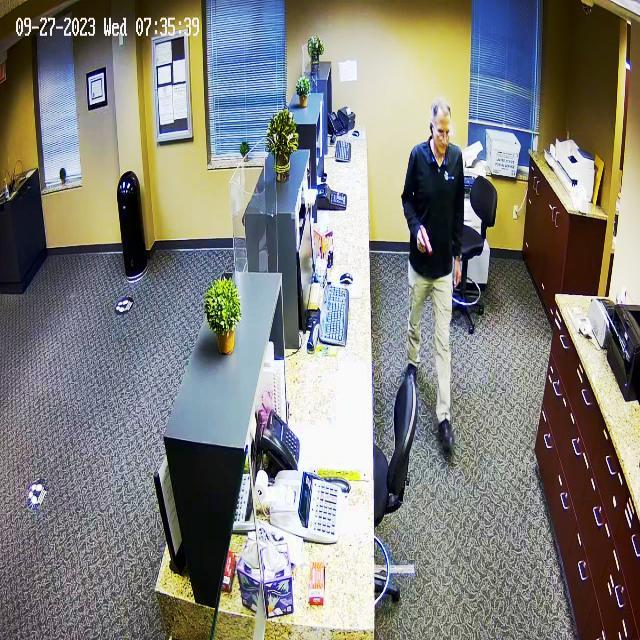Gun: (412, 220, 436, 266)
